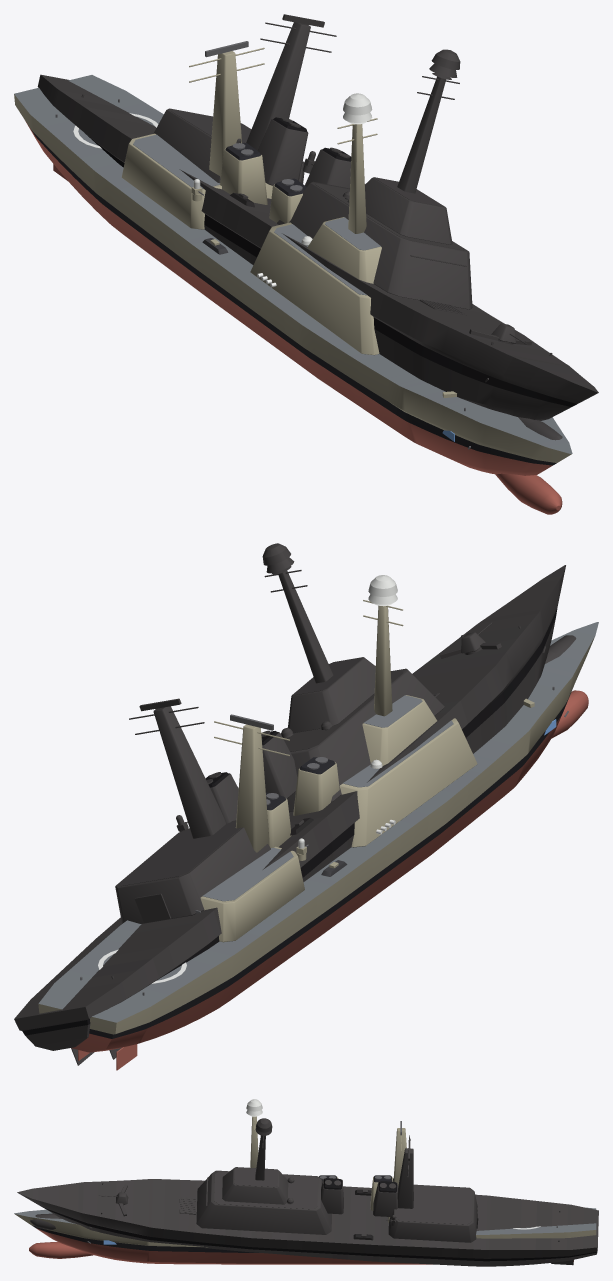
The model's file is type45__type_45_destroyer.glb.
The picture shows the model from 3 angles, top to bottom: view 1: azimuth 30°, elevation 25°; view 2: azimuth 150°, elevation 25°; view 3: azimuth 270°, elevation 25°; orthographic projection. The views are drawn at different scales.
Parts seen in each view (by area): view 1: Hull_Mesh, Wreck; view 2: Hull_Mesh, Wreck; view 3: Wreck, Hull_Mesh.
Boxes of the visible parts, x1,y1,x2,y2 form: Hull_Mesh: (14,41,572,514); Wreck: (37,14,598,440); Hull_Mesh: (38,575,598,1070); Wreck: (14,543,576,1065); Wreck: (17,1118,598,1266); Hull_Mesh: (14,1099,596,1264).
Size of what is drawn, in the model's own units: 31.09 by 50.42 by 160.
